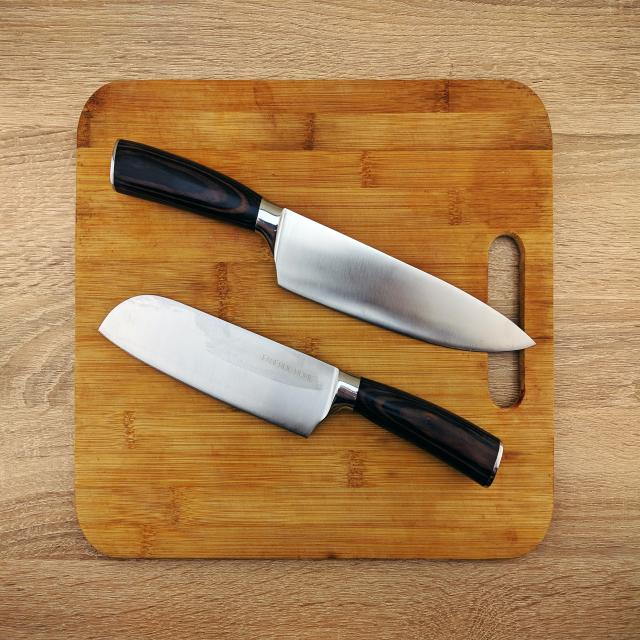Metal: (80, 292, 362, 470), (262, 199, 538, 352)
